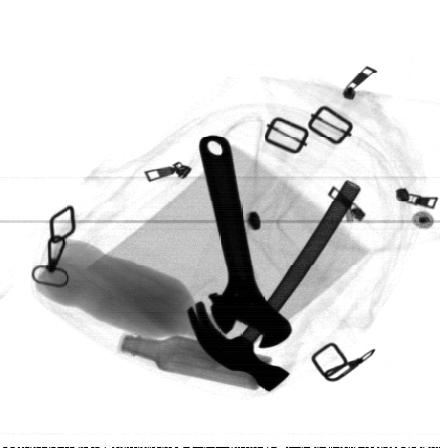Hammer: (186, 182, 362, 392)
Wrench: (198, 135, 292, 349)
